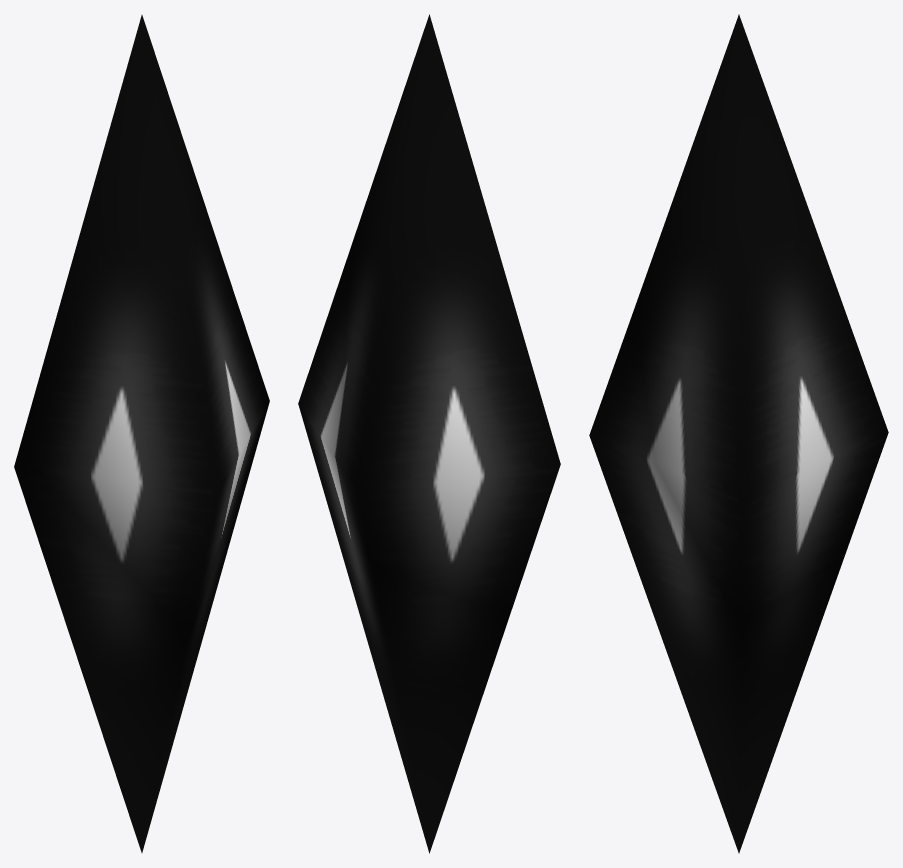
The model's file is ItemPequeñoanimItemP.fbx.
3 views of the same model, side by side, from view 1: azimuth 30°, elevation 25°; view 2: azimuth 150°, elevation 25°; view 3: azimuth 270°, elevation 25° (orthographic).
Parts seen in each view (by area): view 1: Sphere001; view 2: Sphere001; view 3: Sphere001.
Boxes of the visible parts, <box> form: Sphere001: <box>14,15,269,852</box>; Sphere001: <box>298,14,560,853</box>; Sphere001: <box>589,14,888,853</box>.
Size of the model in its own units: 98.01 by 303 by 98.01.
1 material, 1 textured.
